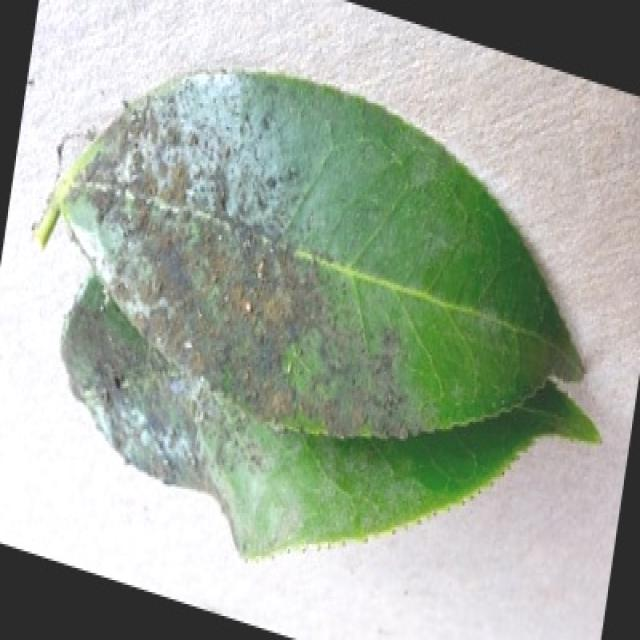Sooty Mold: (32, 62, 602, 561)
